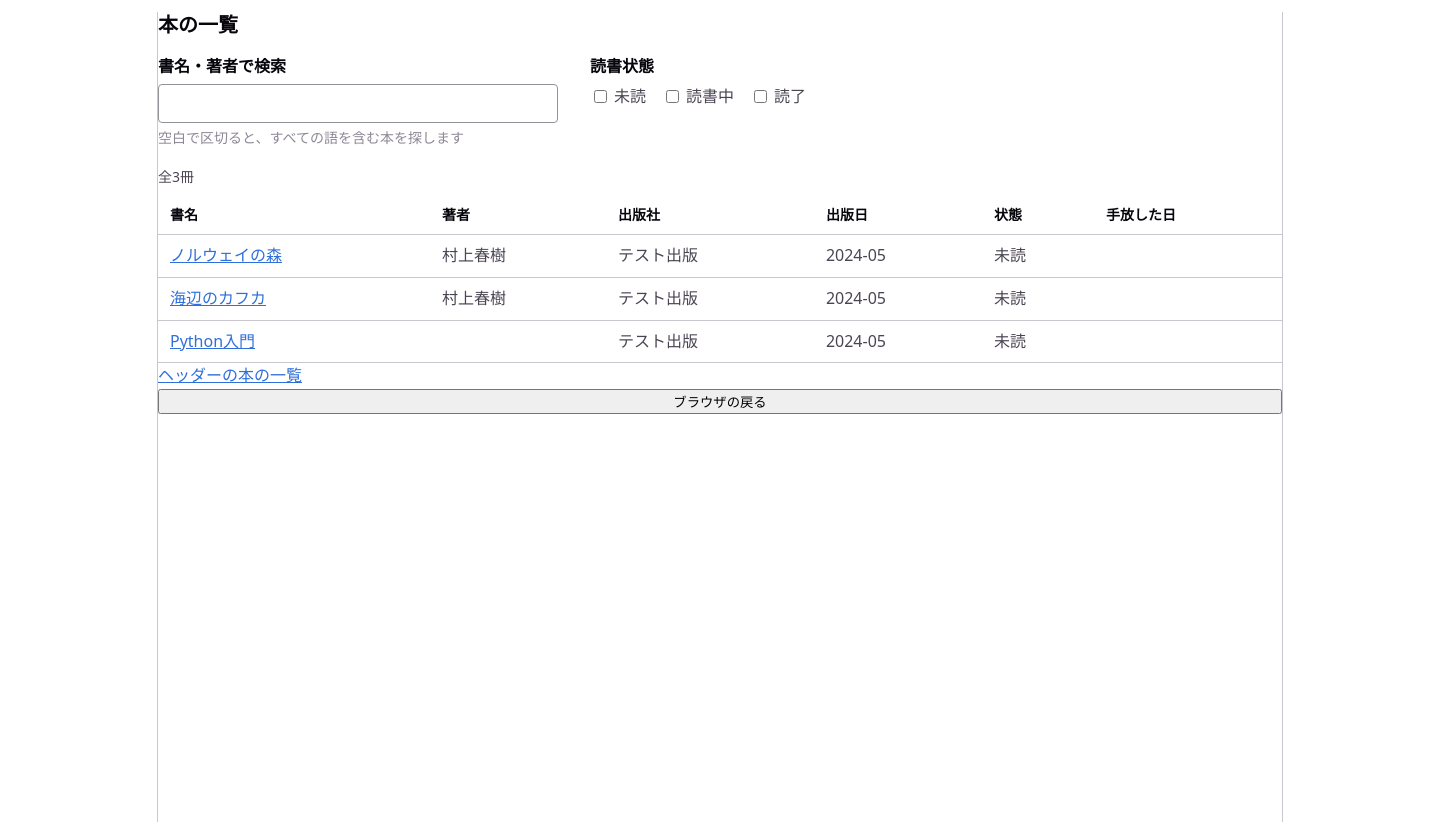
Scenario: BookListPage › 検索 › 一致する本がなければ、そのことを表示する
The image size is (1440, 822).
Type " 海辺 ノルウェイ " into the search field. click: (358, 103)
box: [158,84,558,123]
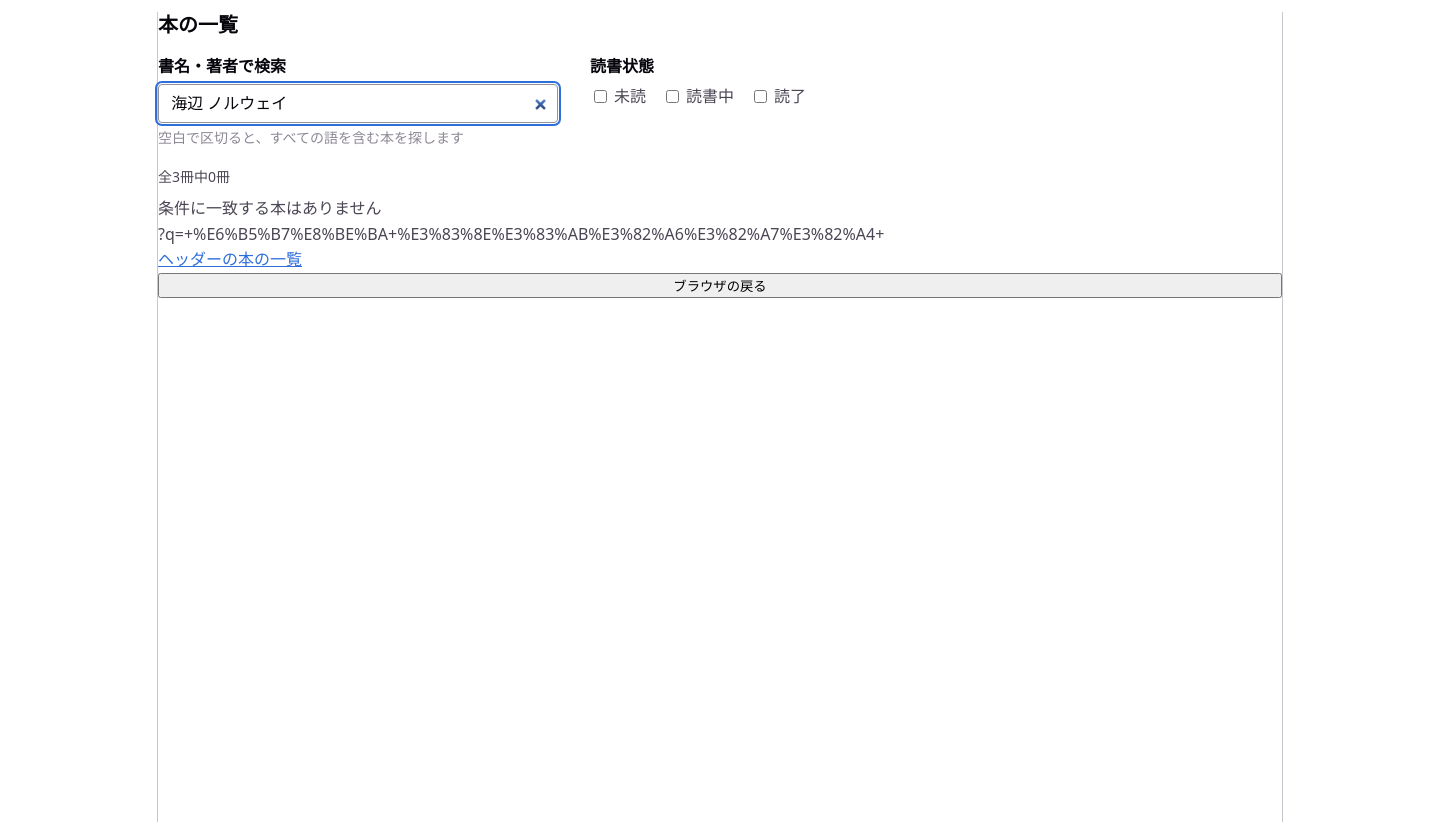
Check: the text "条件に一致する本はありません" is shown, box [158,197,382,219]
Check: the text "全3冊中0冊" is shown, box [158,167,230,186]
Check: the table is gone
